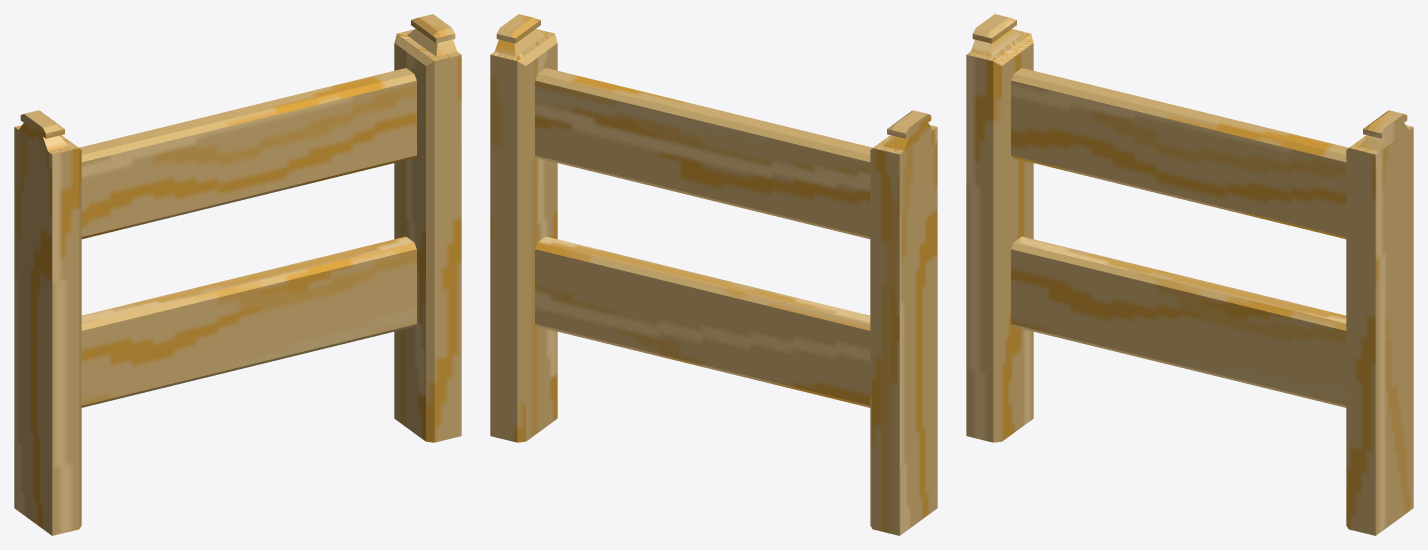
Rendered from fancyfance.fbx.
3 views of the same model, side by side, from view 1: azimuth 30°, elevation 25°; view 2: azimuth 150°, elevation 25°; view 3: azimuth 330°, elevation 25° (orthographic).
Visible parts, largest first — view 1: Fence; view 2: Fence; view 3: Fence.
Boxes of the visible parts, x1,y1,x2,y2 form: Fence: (14,14,461,535); Fence: (490,14,937,535); Fence: (966,14,1413,535).
Size of the model in its own units: 225 by 210 by 35.97.
